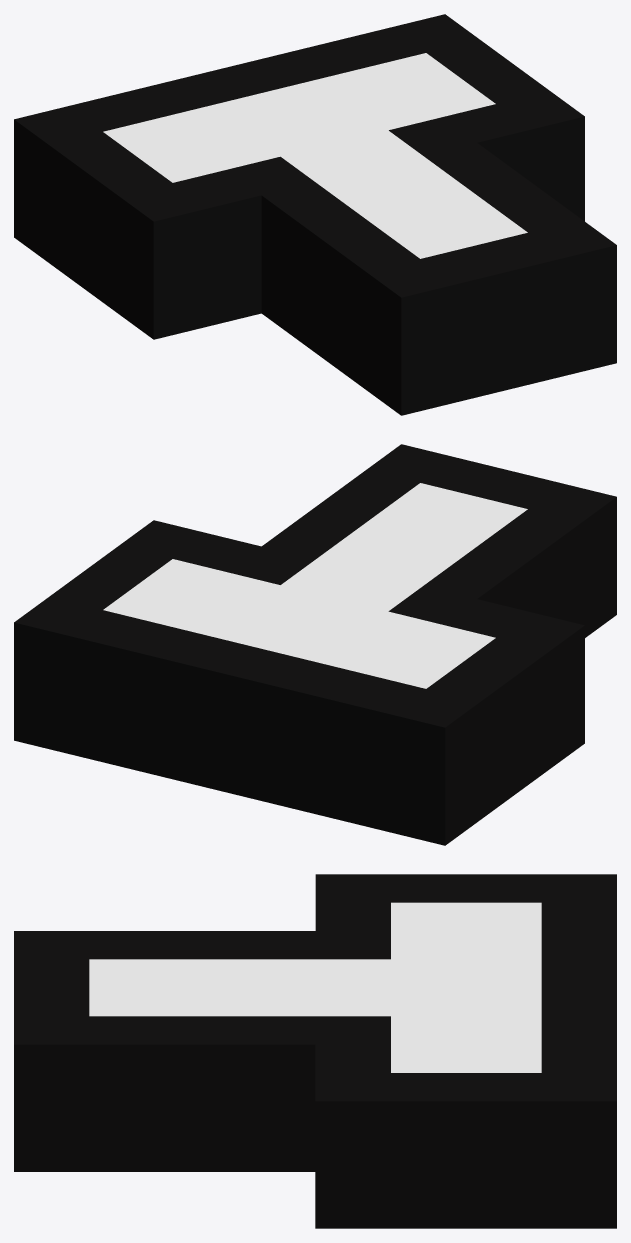
The model's file is Font_Letter_T_01.fbx.
3 renders of one model, top to bottom at view 1: azimuth 30°, elevation 25°; view 2: azimuth 150°, elevation 25°; view 3: azimuth 270°, elevation 25°, orthographic. The views are drawn at different scales.
Visible parts, largest first — view 1: Font_Letter_T_01; view 2: Font_Letter_T_01; view 3: Font_Letter_T_01.
Boxes of the visible parts, <box> form: Font_Letter_T_01: <box>14,14,616,415</box>; Font_Letter_T_01: <box>14,444,616,845</box>; Font_Letter_T_01: <box>14,874,616,1228</box>.
Bounding box in the file's own units: 74.41 × 19.48 × 83.57.
